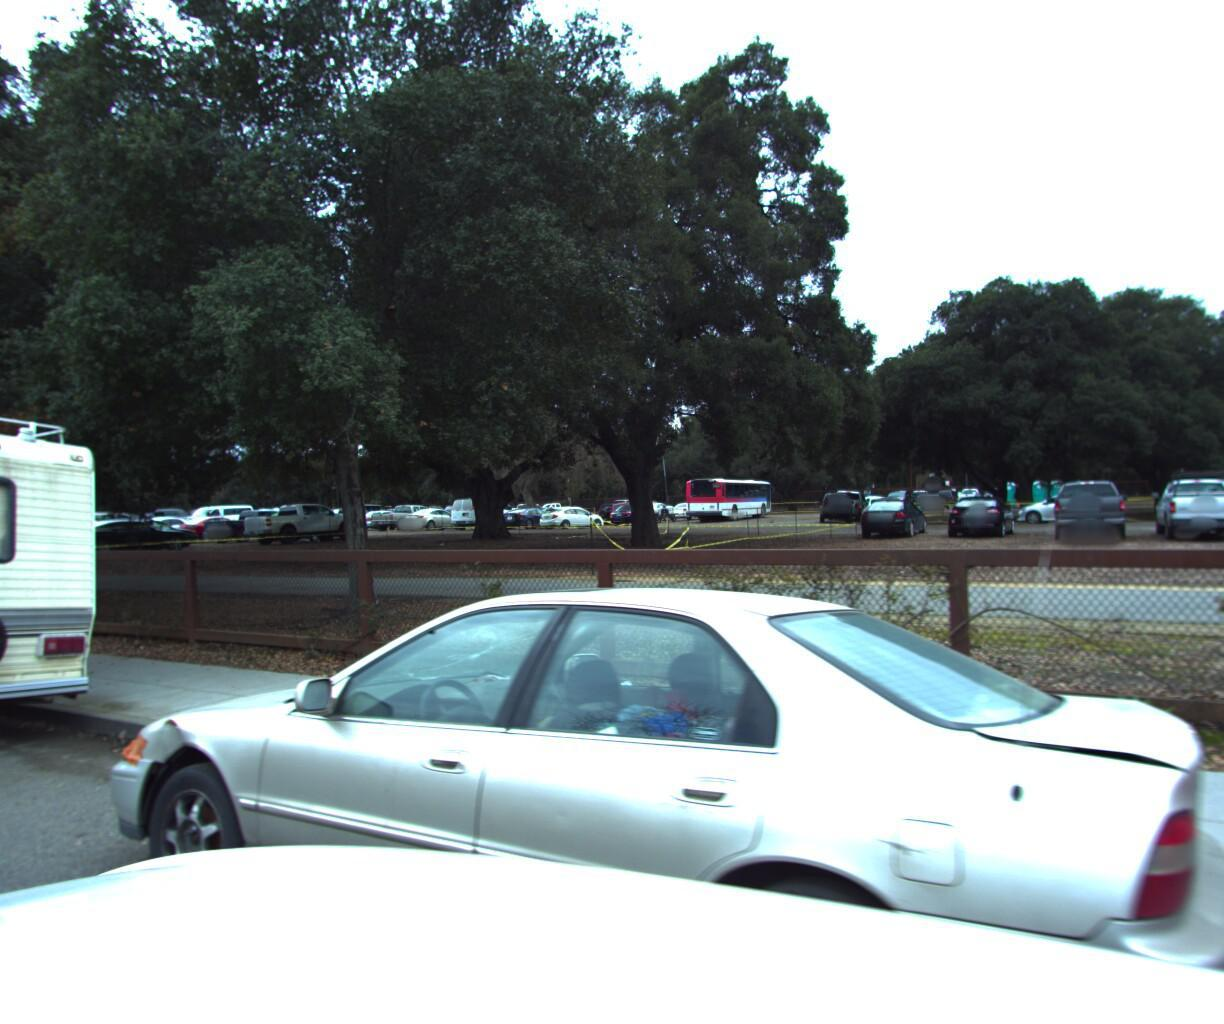car: (54, 554, 1224, 1024)
other_vehicle: (0, 357, 157, 835)
